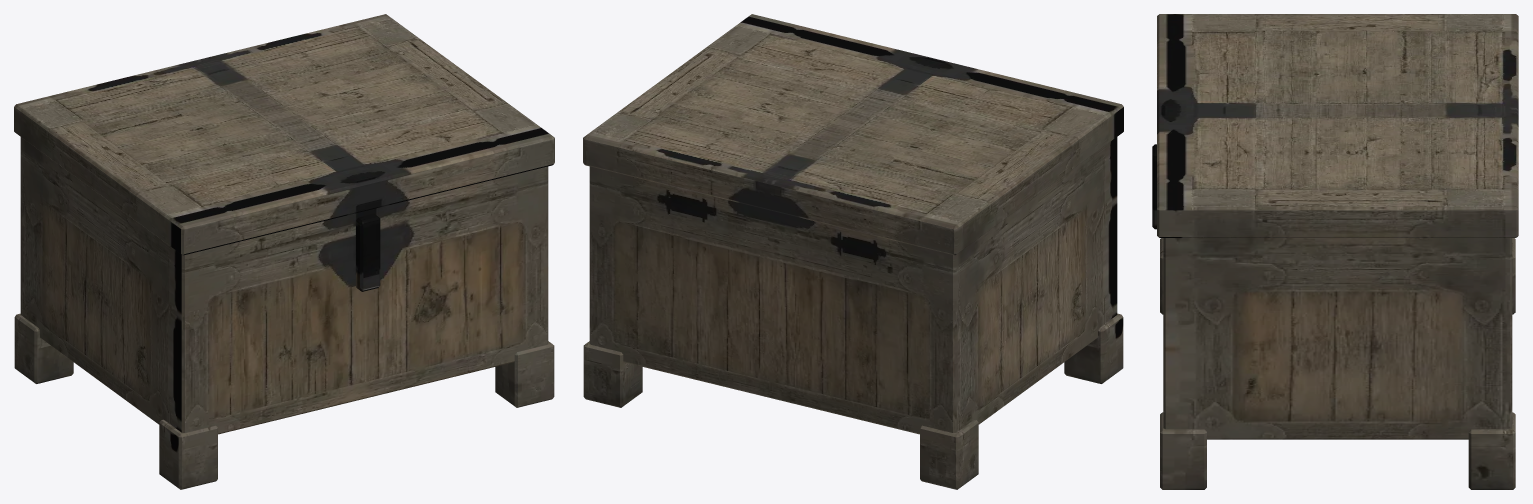
Rendered from chest-plain.glb.
3 views of the same model, side by side, from view 1: azimuth 30°, elevation 25°; view 2: azimuth 150°, elevation 25°; view 3: azimuth 270°, elevation 25° (orthographic). The views are drawn at different scales.
Visible parts, largest first — view 1: chest-plain; view 2: chest-plain; view 3: chest-plain.
Part boxes in pixels (x1=…): chest-plain: x1=14, y1=14, x2=554, y2=489; chest-plain: x1=583, y1=14, x2=1123, y2=489; chest-plain: x1=1152, y1=14, x2=1518, y2=489.
Size of the model in its own units: 0.743 by 0.5 by 0.5875.
Materials: 1 (1 with a texture image).
